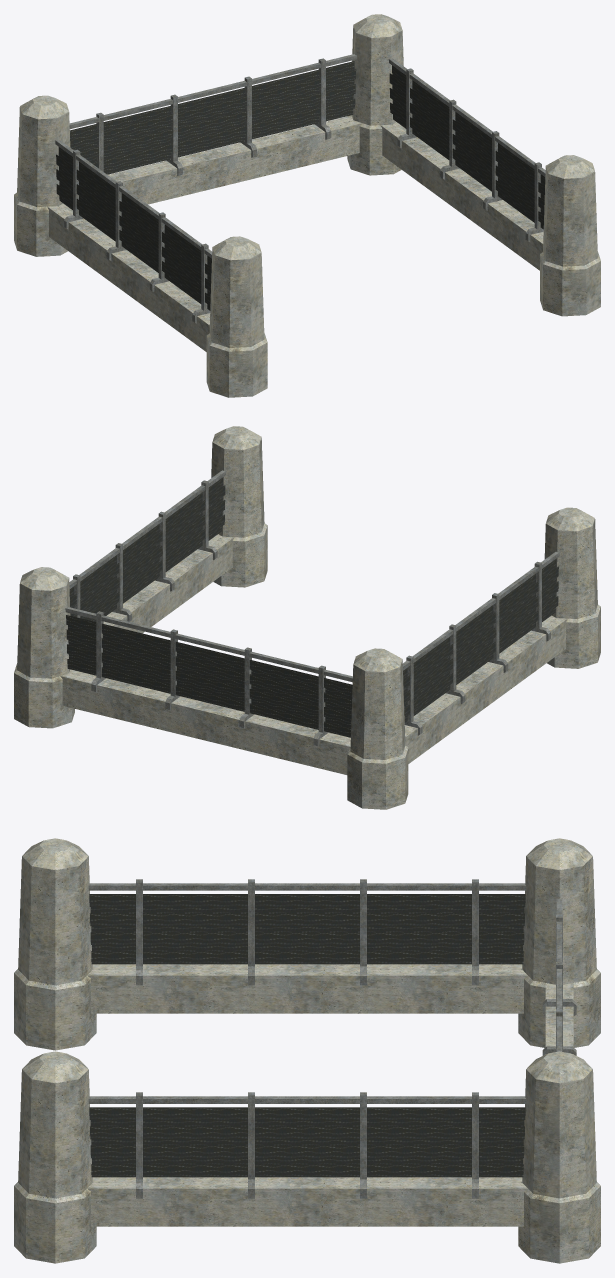
File: poi_all_corral_half_32x32_s05_l0.fbx
The picture shows the model from 3 angles, top to bottom: view 1: azimuth 30°, elevation 25°; view 2: azimuth 150°, elevation 25°; view 3: azimuth 270°, elevation 25°; orthographic projection. The views are drawn at different scales.
Parts seen in each view (by area): view 1: mesh_node; view 2: mesh_node; view 3: mesh_node.
Boxes of the visible parts, x1,y1,x2,y2 form: mesh_node: (14, 14, 600, 397); mesh_node: (14, 426, 600, 809); mesh_node: (14, 838, 600, 1263).
Bounding box in the file's own units: 20.96 × 7.4 × 20.96.
